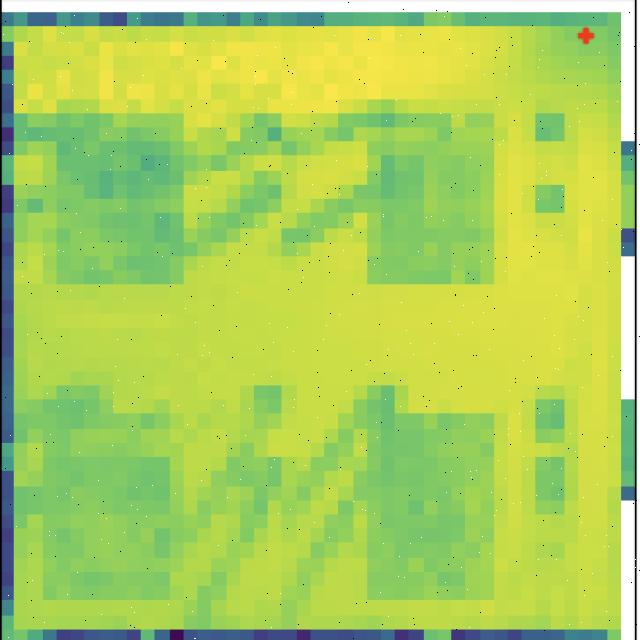Concrete: (54, 98, 185, 286)
Glass: (356, 393, 497, 599)
Metal: (48, 400, 176, 602)
Wood: (364, 102, 499, 286)
